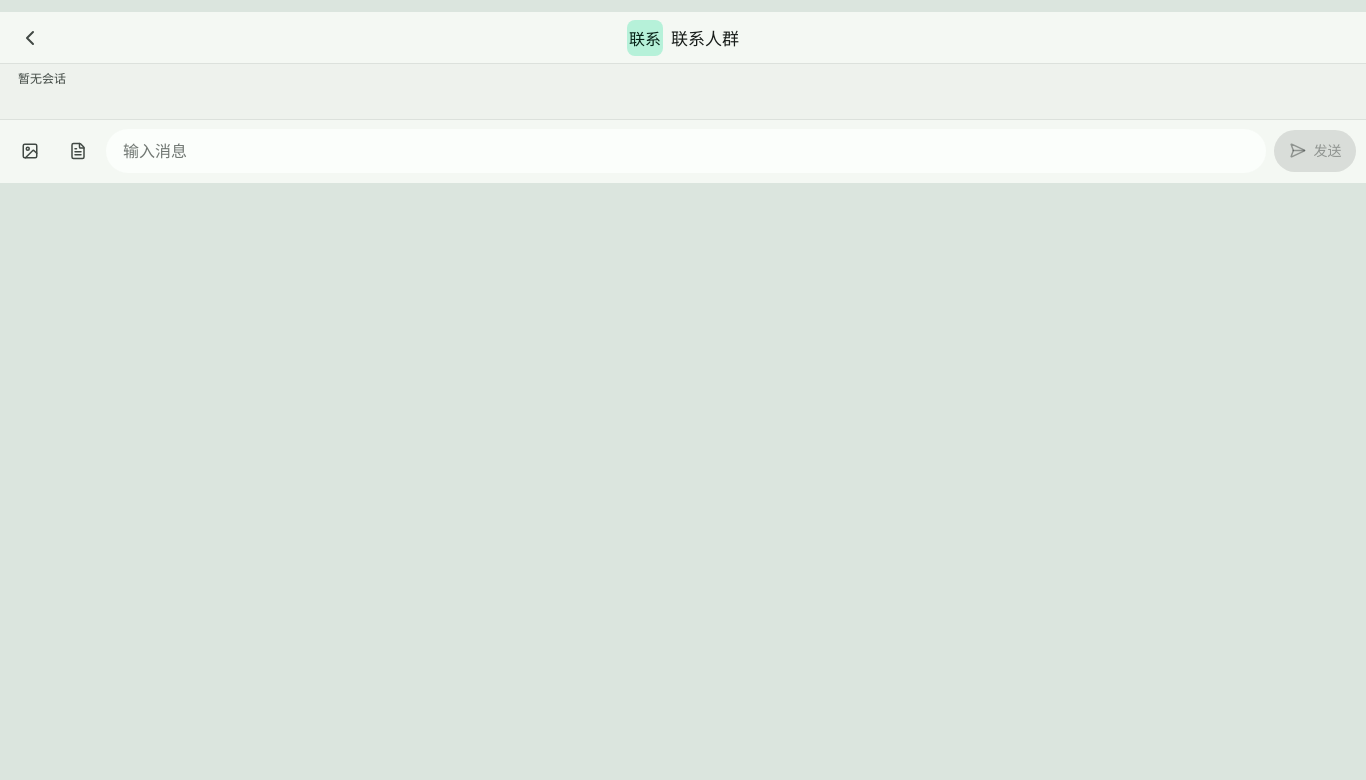
Scenario: MessagesPage real API mode › opens group management from a contacts-started pending group chat
This screenshot has width=1366, height=780.
Expected: the heading "联系人群" is shown, [671, 25, 739, 50]
What coordinates should you click on to do the following:
click the button with aria-label "打开群管理 联系人群"
I would click on:
 (683, 38)
Its box is [54, 16, 1312, 60].
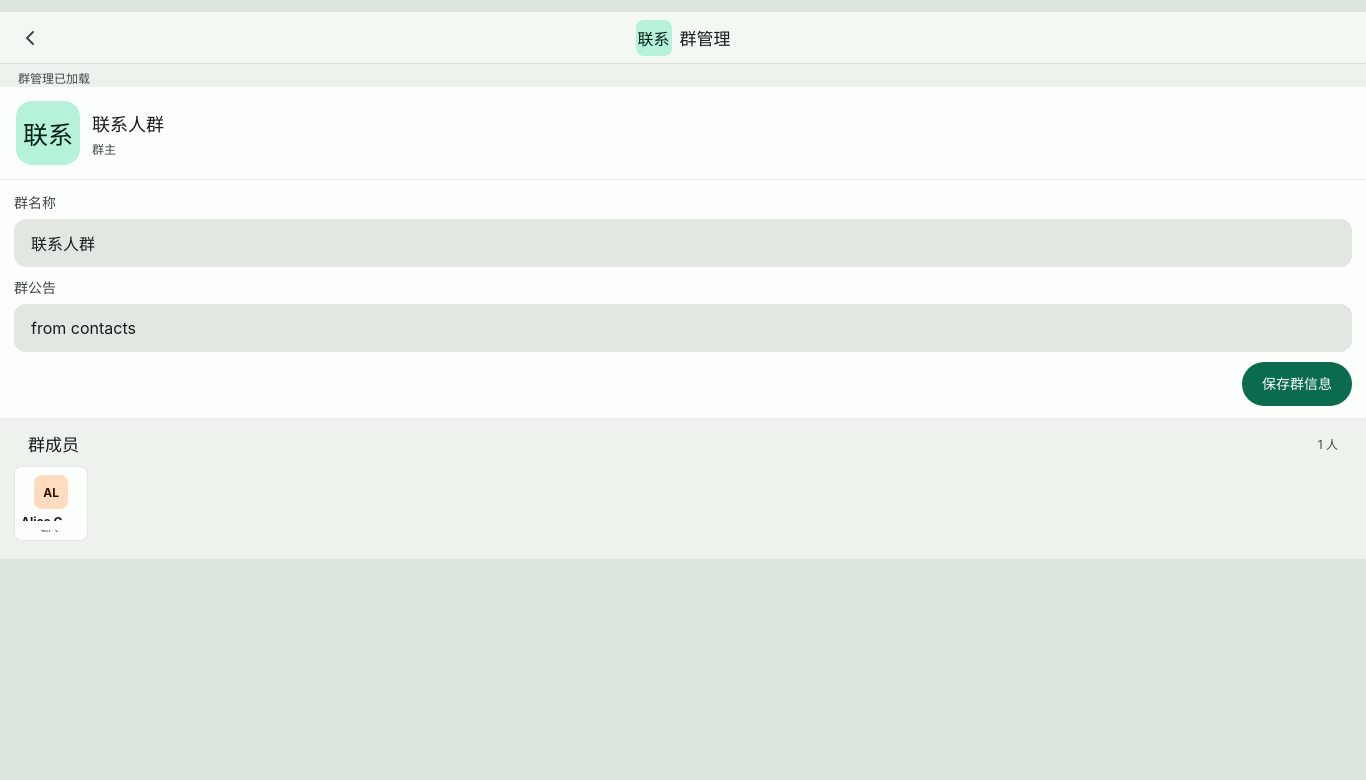
Expected: the heading "群管理" is shown, [680, 25, 730, 50]
Expected: the field showing "from contacts" is shown, [29, 317, 1337, 339]
